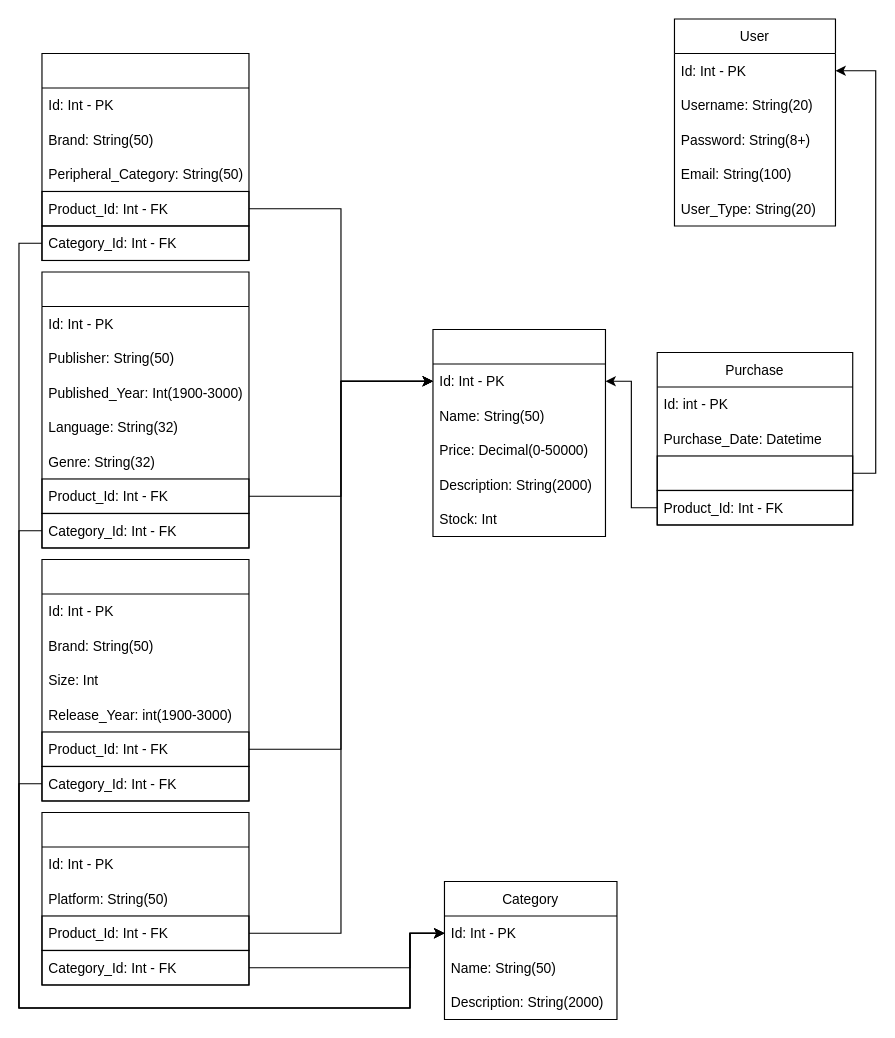
Image size: 895x1038. Some labels were removed from this diagram. The shapes that lost their labels are listed below. From the top down, each one's box as (x1, y1, x2, y2) in pixels, then its label:
(41, 52, 249, 260): GamingPeripheral
(41, 271, 249, 548): Game
(432, 328, 605, 536): Product
(656, 455, 853, 490): User_Id: Int - FK
(41, 558, 249, 801): Monitors
(41, 811, 249, 985): GameCards
